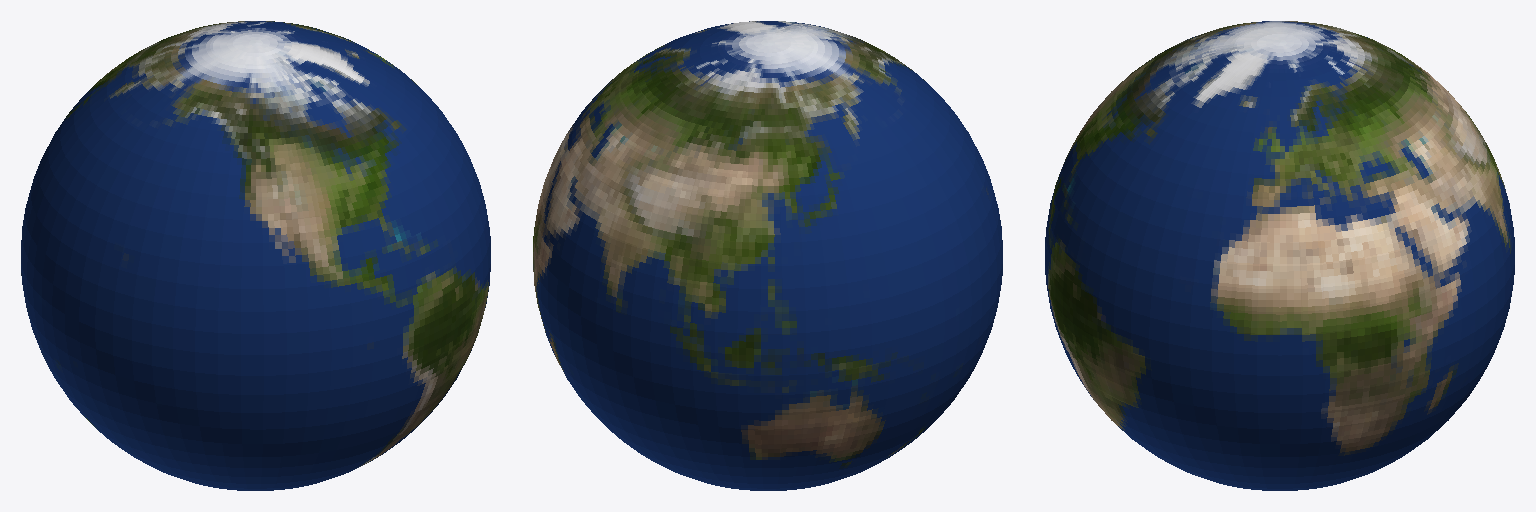
3 renders of one model, left to right at view 1: azimuth 30°, elevation 25°; view 2: azimuth 150°, elevation 25°; view 3: azimuth 270°, elevation 25°, orthographic.
Visible parts, largest first — view 1: Sphere; view 2: Sphere; view 3: Sphere.
Part boxes in pixels (x1,y1,x2,y2): Sphere: (21,21,490,490); Sphere: (533,21,1002,490); Sphere: (1045,21,1514,490).
Bounding box in the file's own units: 2 × 2 × 2.
1 materials, 1 textured.